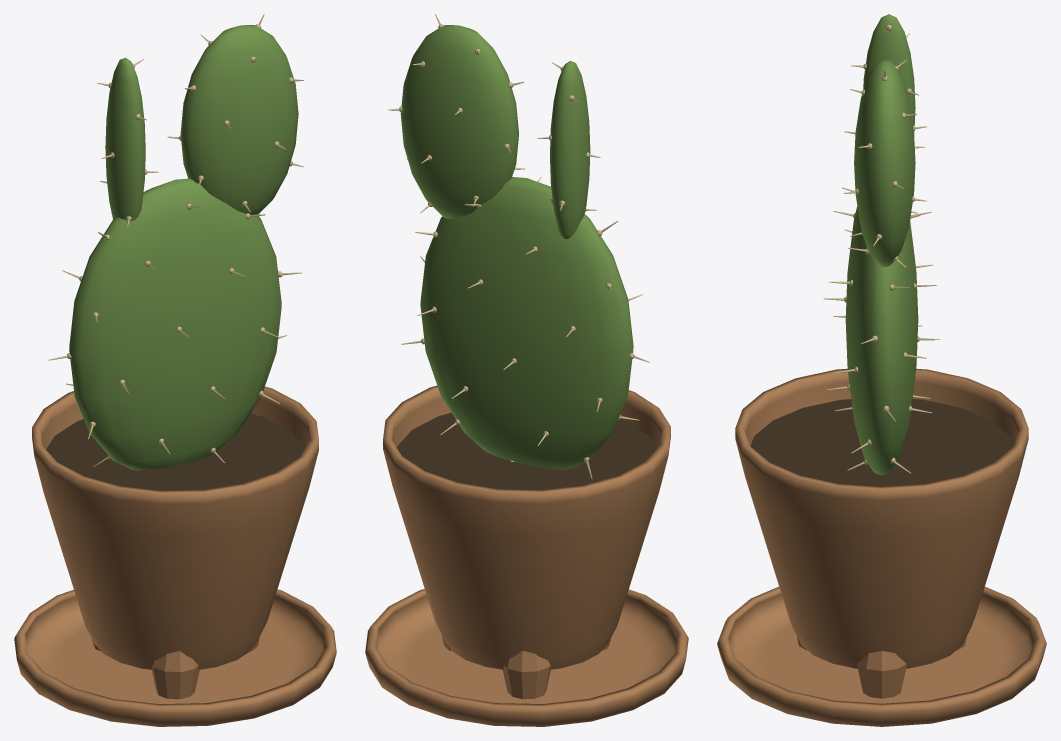
The model's file is A-NEW-20261027-POTTED-CACTUS-001_LOD2_R1.glb.
The picture shows the model from 3 angles, left to right: view 1: azimuth 30°, elevation 25°; view 2: azimuth 150°, elevation 25°; view 3: azimuth 270°, elevation 25°; orthographic projection.
Visible parts, largest first — view 1: main fleshy cactus pad, thick open pot, plain saucer, upper broad cactus pad, soil fill, young edge-on cactus pad, integral pot foot 2; view 2: main fleshy cactus pad, thick open pot, plain saucer, upper broad cactus pad, soil fill, young edge-on cactus pad, integral pot foot 1; view 3: thick open pot, plain saucer, soil fill, main fleshy cactus pad, upper broad cactus pad, young edge-on cactus pad, integral pot foot 0.
Part boxes in pixels (bbox=[...]): main fleshy cactus pad: bbox=[69, 178, 281, 470]; thick open pot: bbox=[32, 386, 318, 669]; plain saucer: bbox=[14, 589, 336, 726]; upper broad cactus pad: bbox=[180, 25, 298, 214]; soil fill: bbox=[46, 413, 304, 490]; young edge-on cactus pad: bbox=[105, 57, 145, 221]; integral pot foot 2: bbox=[151, 651, 199, 699]; main fleshy cactus pad: bbox=[420, 177, 633, 469]; thick open pot: bbox=[383, 385, 670, 669]; plain saucer: bbox=[365, 589, 688, 726]; upper broad cactus pad: bbox=[400, 25, 518, 219]; soil fill: bbox=[397, 412, 656, 490]; young edge-on cactus pad: bbox=[550, 61, 590, 239]; integral pot foot 1: bbox=[502, 651, 550, 699]; thick open pot: bbox=[735, 368, 1028, 668]; plain saucer: bbox=[717, 586, 1046, 726]; soil fill: bbox=[750, 399, 1013, 486]; main fleshy cactus pad: bbox=[845, 206, 918, 475]; upper broad cactus pad: bbox=[854, 59, 915, 267]; young edge-on cactus pad: bbox=[863, 14, 915, 134]; integral pot foot 0: bbox=[857, 651, 906, 698].
Bounding box in the file's own units: 0.236 × 0.5065 × 0.236.
